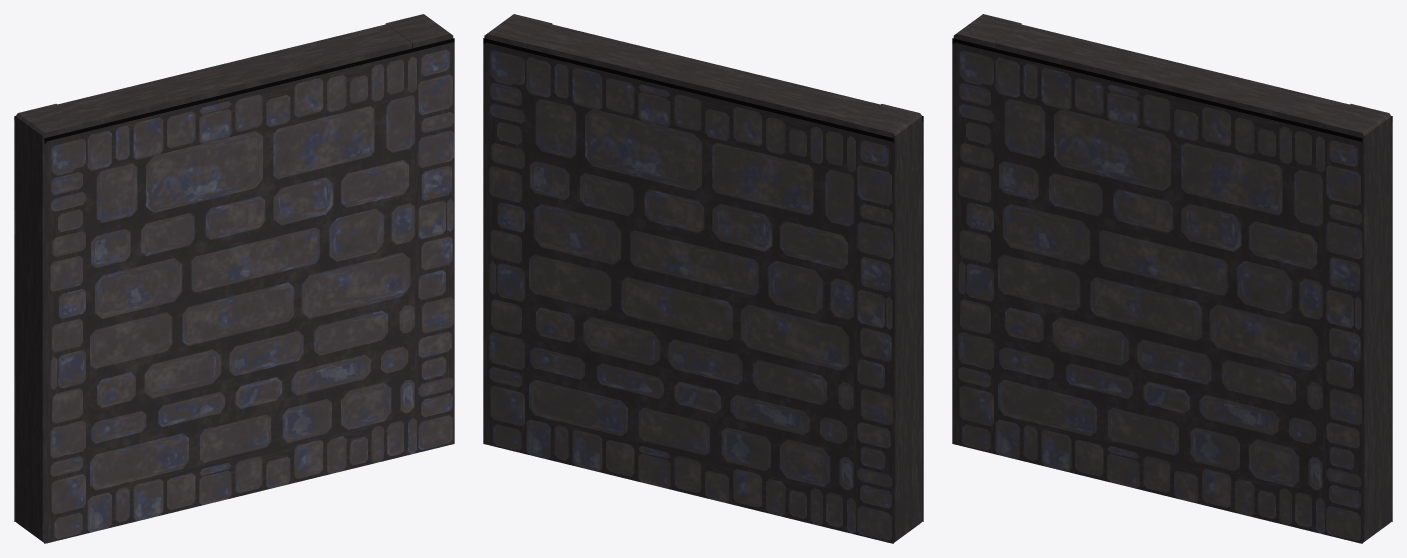
Rendered from rock_wall.fbx.
The picture shows the model from 3 angles, left to right: view 1: azimuth 30°, elevation 25°; view 2: azimuth 150°, elevation 25°; view 3: azimuth 330°, elevation 25°; orthographic projection.
Visible parts, largest first — view 1: rock_wall, Plane.003; view 2: rock_wall, Plane.003; view 3: rock_wall, Plane.003.
Boxes of the visible parts, <box> form: rock_wall: <box>14,38,454,543</box>; Plane.003: <box>15,14,453,542</box>; rock_wall: <box>483,38,923,543</box>; Plane.003: <box>484,14,922,542</box>; rock_wall: <box>952,38,1392,543</box>; Plane.003: <box>953,14,1391,542</box>.
Bounding box in the file's own units: 212 × 202 × 26.86.
